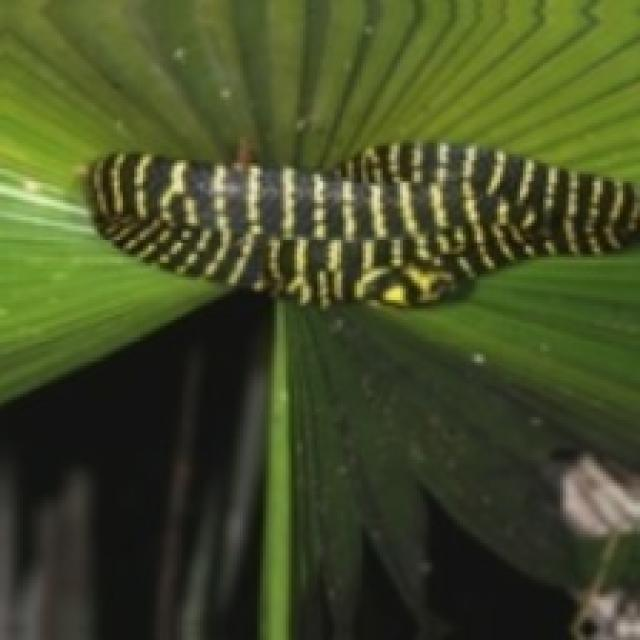mangrove cat snake: (89, 143, 637, 303)
